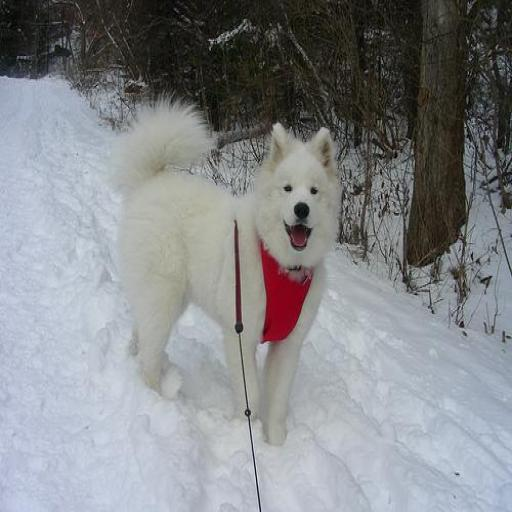dog_face: (264, 125, 335, 255)
